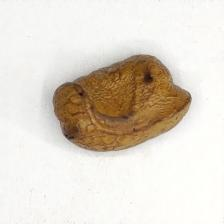NG: (59, 64, 182, 140)
